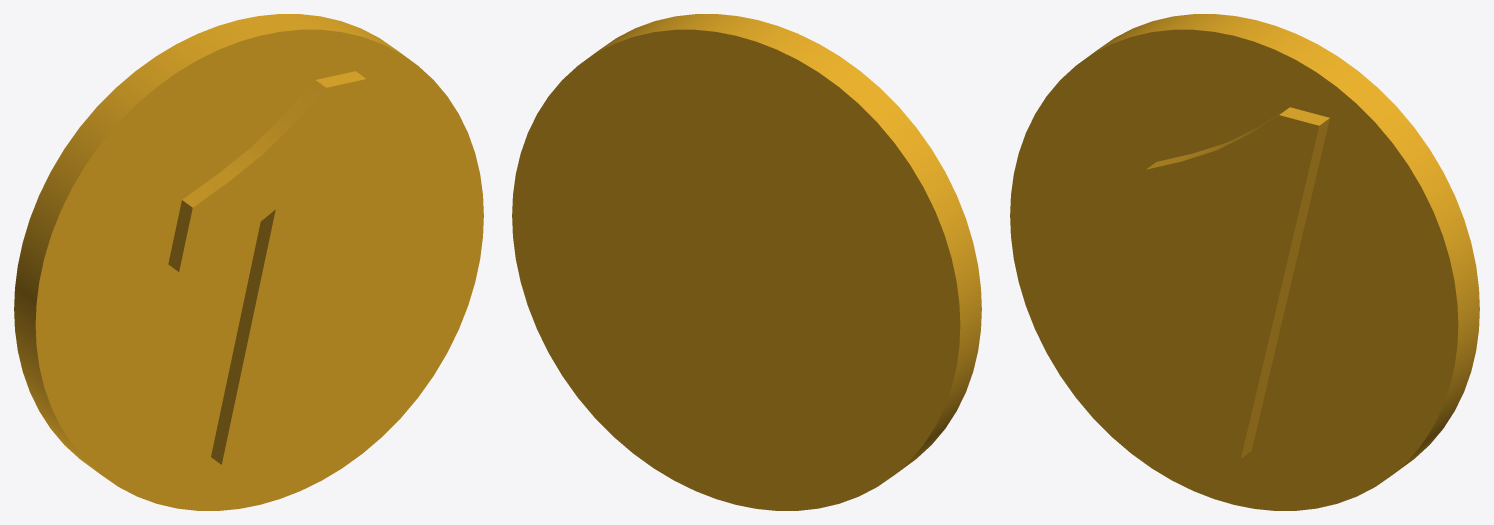
Rendered from disk1.fbx.
3 views of the same model, side by side, from view 1: azimuth 30°, elevation 25°; view 2: azimuth 150°, elevation 25°; view 3: azimuth 330°, elevation 25° (orthographic).
Parts seen in each view (by area): view 1: Body1; view 2: Body1; view 3: Body1.
Part boxes in pixels (left/top/right/bottom): Body1: left=14, top=14, right=483, bottom=510; Body1: left=512, top=14, right=981, bottom=510; Body1: left=1010, top=14, right=1479, bottom=510.
Size of the model in its own units: 1200 by 1200 by 150.
